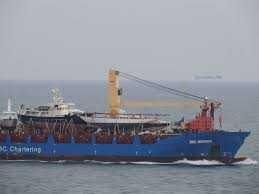kayak: (2, 79, 257, 164), (16, 87, 86, 124)
